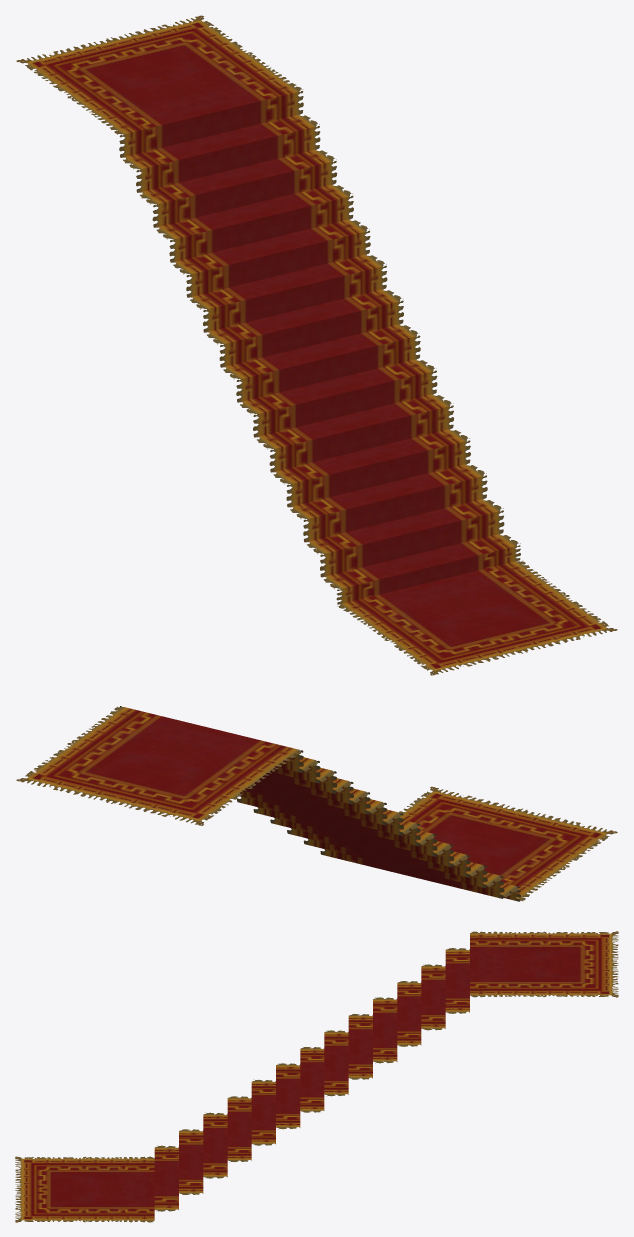
The model's file is Carpet_Str_1.fbx.
3 views of the same model, one above another, from view 1: azimuth 30°, elevation 25°; view 2: azimuth 150°, elevation 25°; view 3: azimuth 270°, elevation 25° (orthographic). The views are drawn at different scales.
Parts seen in each view (by area): view 1: polySurface7344; view 2: polySurface7344; view 3: polySurface7344.
Part boxes in pixels (x1,y1,x2,y2): polySurface7344: (16,15,617,675); polySurface7344: (16,706,617,901); polySurface7344: (15,931,618,1222).
Size of the model in its own units: 2.6 by 4.1 by 10.
